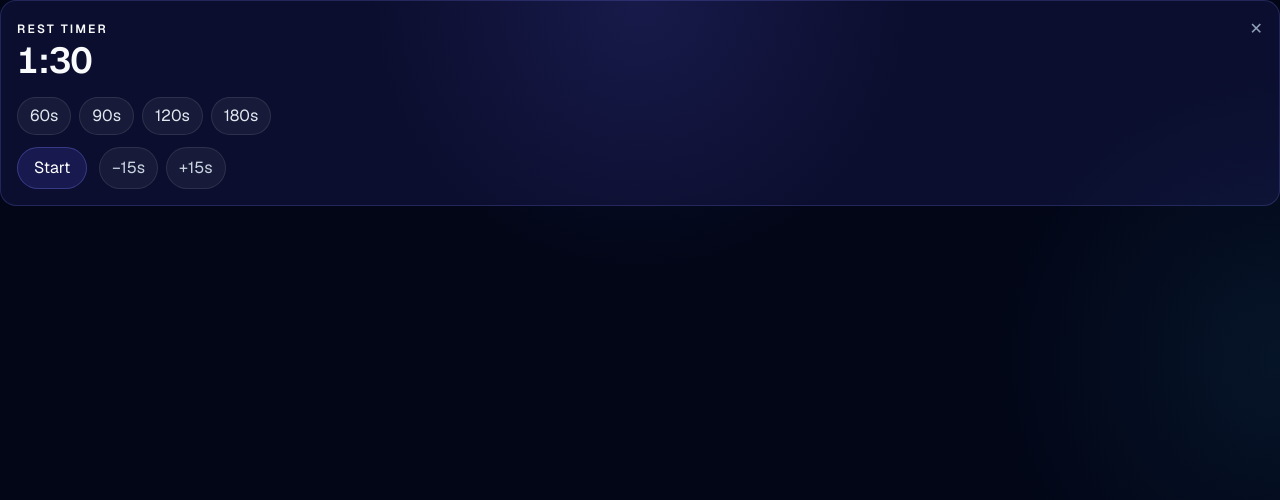
it: RestTimer › start / stop › clicking a preset button starts the timer and shows Stop
Click the button "60s" at (44, 116), box [17,97,71,135]
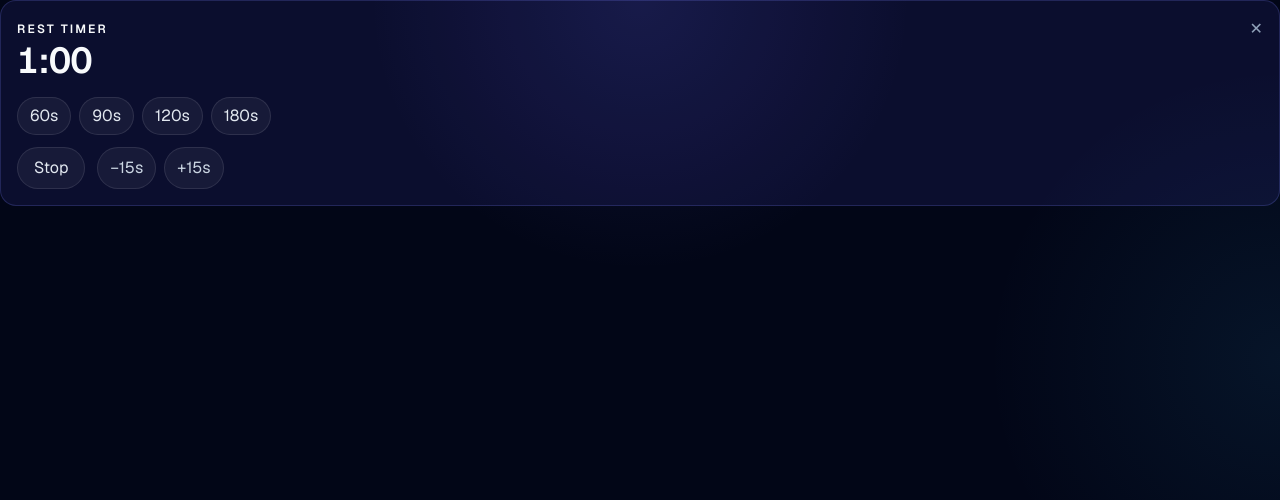
Result: the button "Stop" is shown at [17,147,85,189]
